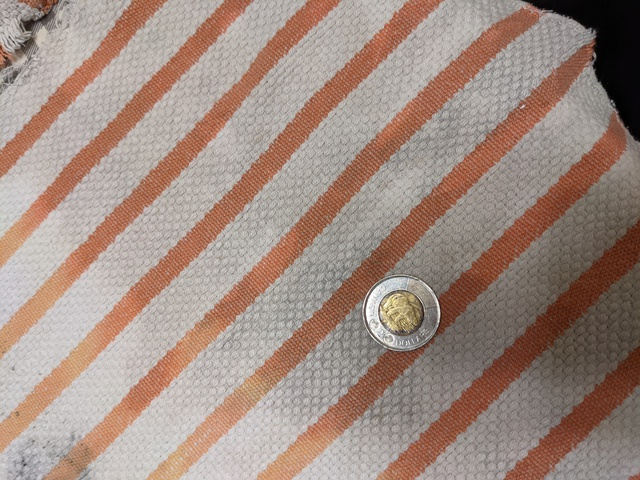twonie: (350, 266, 446, 363)
